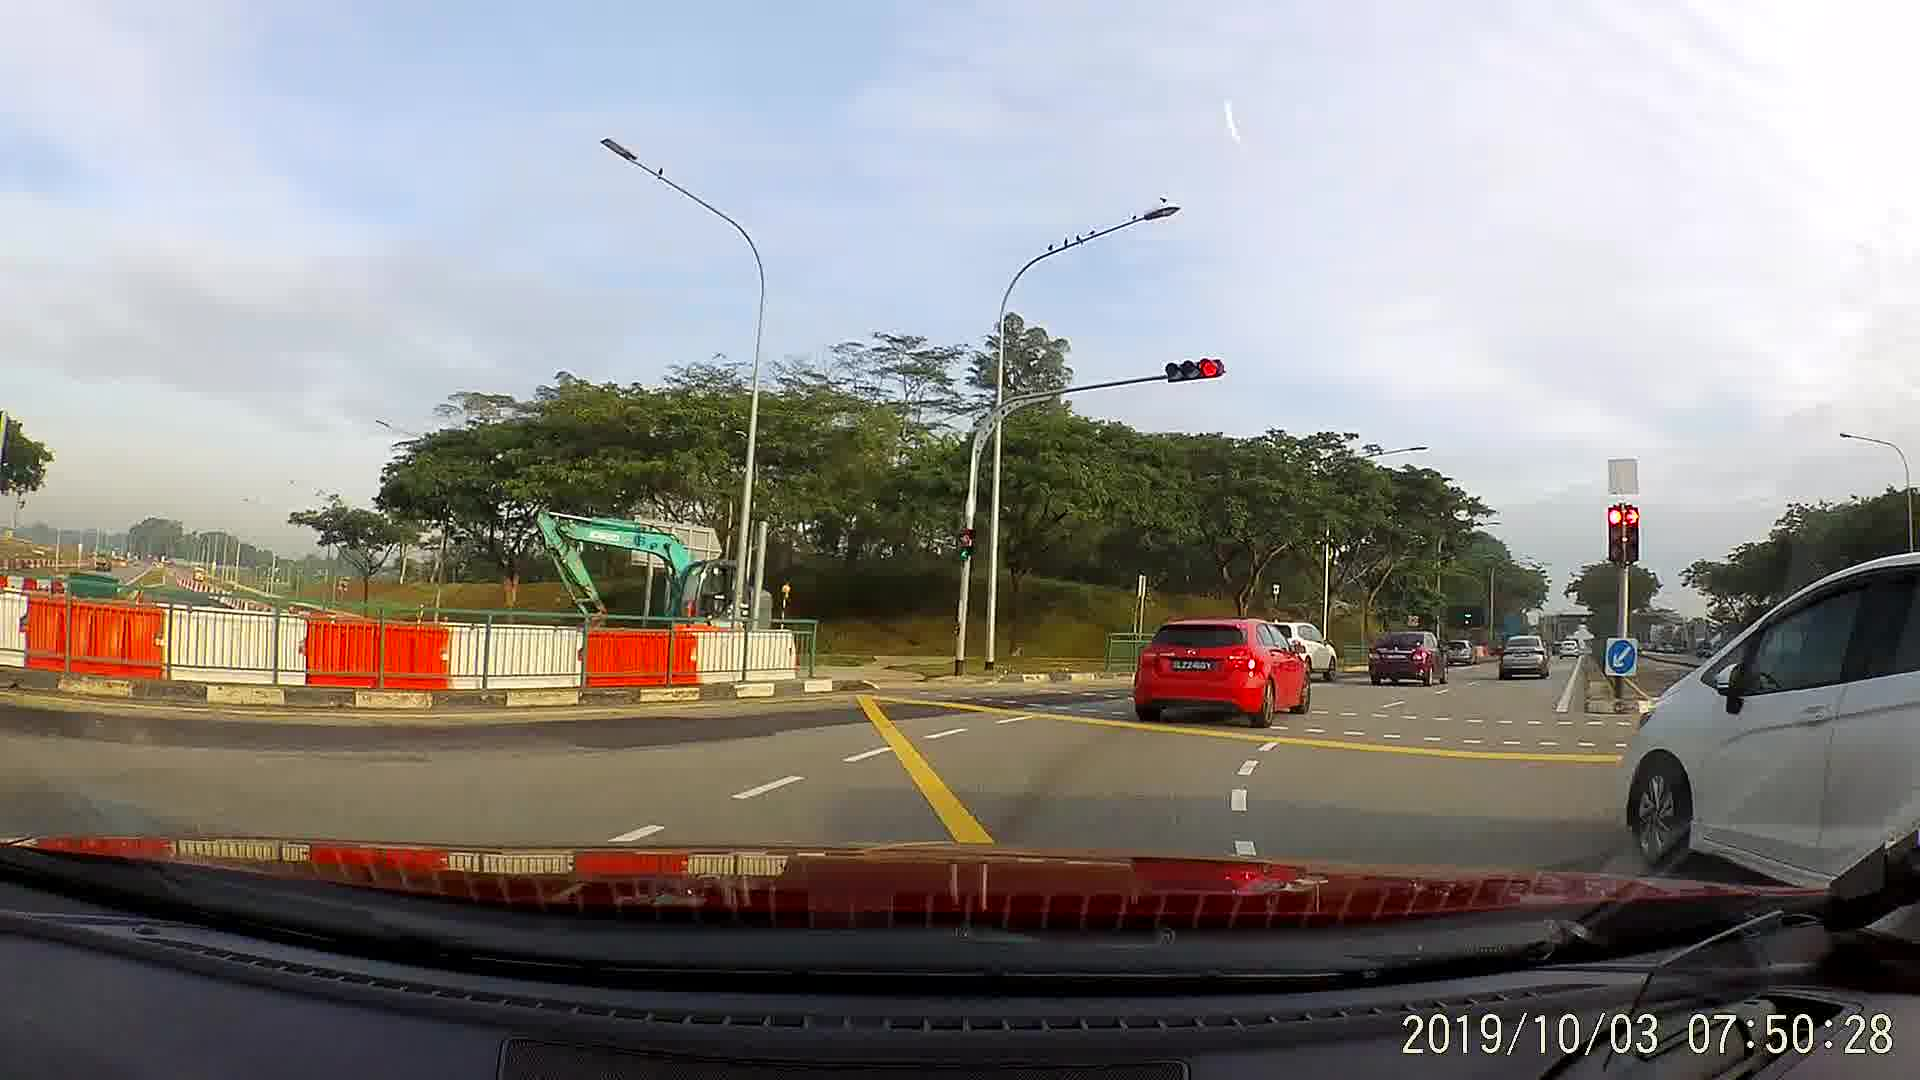car: (1615, 549, 1917, 886), (1131, 609, 1319, 733), (1364, 628, 1458, 699), (1493, 629, 1553, 690), (1441, 632, 1478, 669), (1553, 634, 1582, 663)
